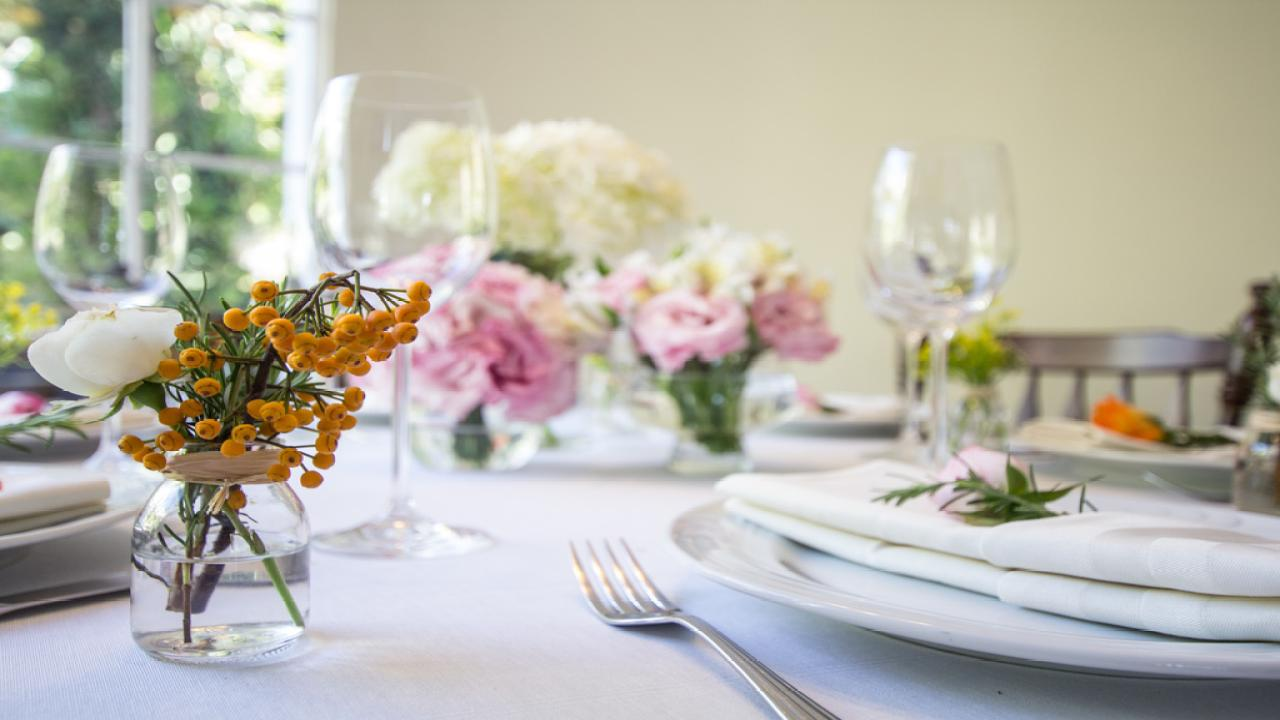fork: (562, 531, 838, 720)
